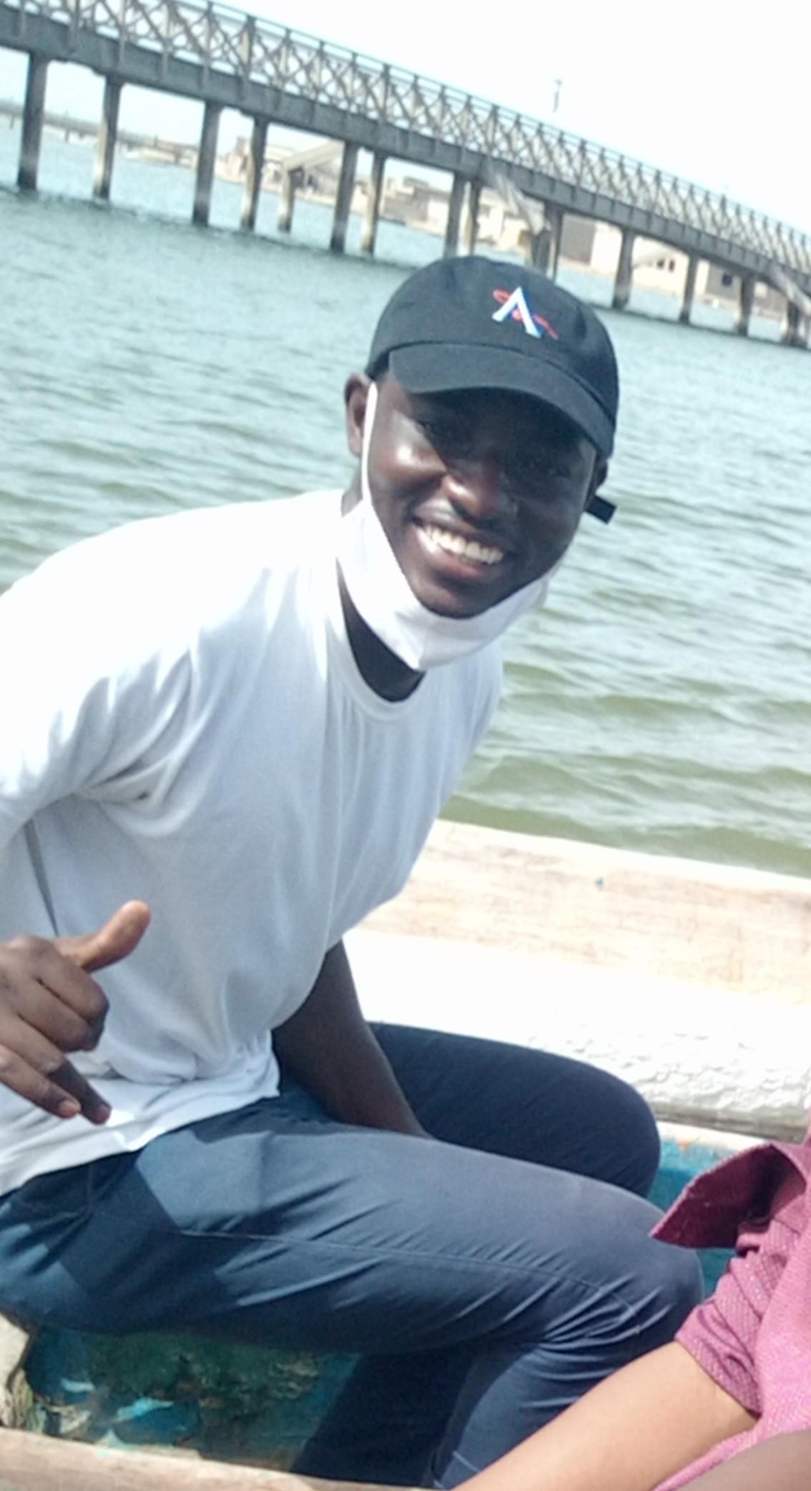Wore Mask Incorrectly: (344, 239, 630, 692)
